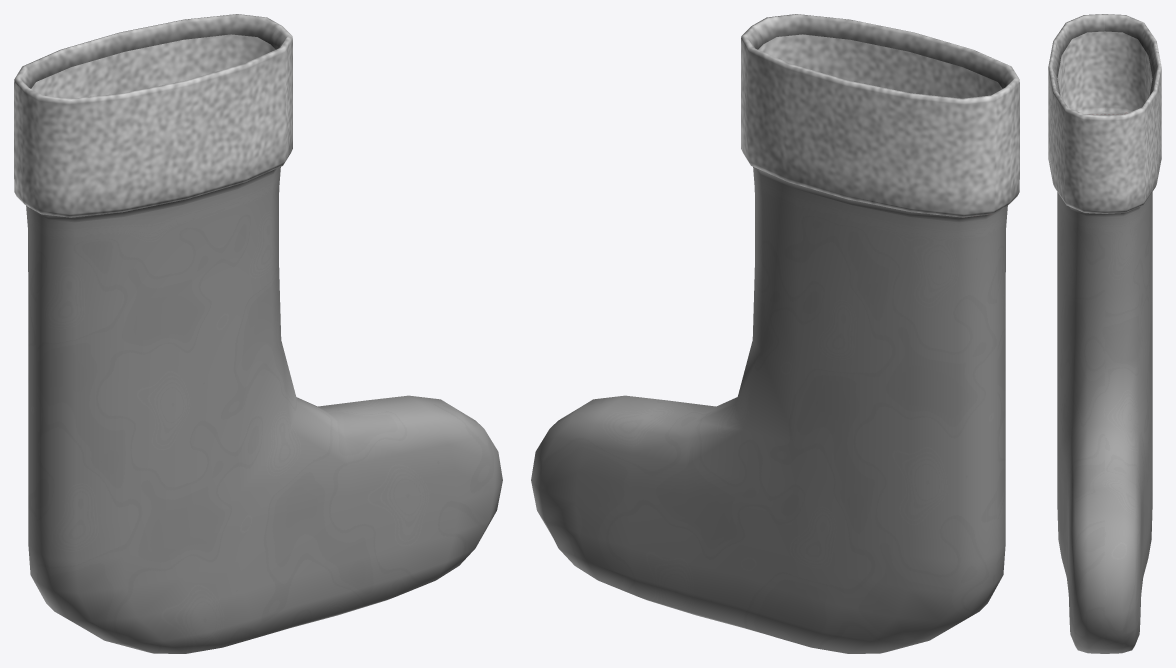
Rendered from stocking.fbx.
The picture shows the model from 3 angles, left to right: view 1: azimuth 30°, elevation 25°; view 2: azimuth 150°, elevation 25°; view 3: azimuth 270°, elevation 25°; orthographic projection. The views are drawn at different scales.
Visible parts, largest first — view 1: stocking.lod0; view 2: stocking.lod0; view 3: stocking.lod0.
Part boxes in pixels (x1,y1,x2,y2): stocking.lod0: (14,14,502,653); stocking.lod0: (531,14,1019,653); stocking.lod0: (1048,14,1161,653).
Size of what is drawn, in the model's own units: 154 by 186 by 39.03.
